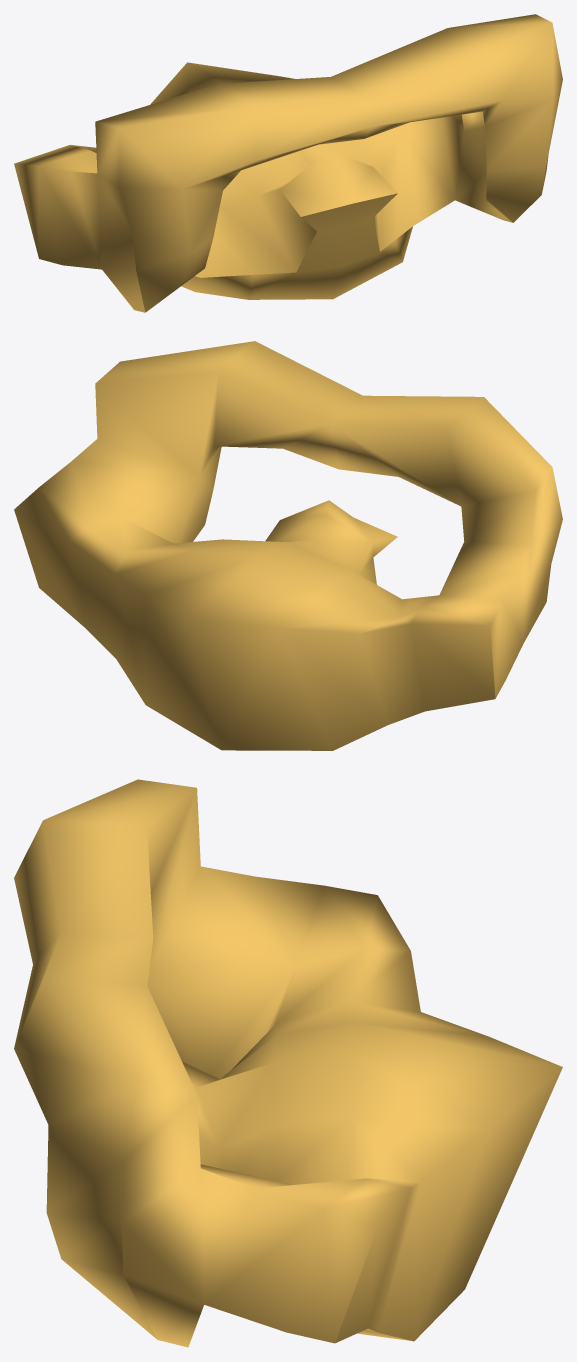
The model's file is Beard_Yellow_7.fbx.
The picture shows the model from 3 angles, top to bottom: view 1: azimuth 30°, elevation 25°; view 2: azimuth 150°, elevation 25°; view 3: azimuth 270°, elevation 25°; orthographic projection. The views are drawn at different scales.
Visible parts, largest first — view 1: Beard_Yellow_7; view 2: Beard_Yellow_7; view 3: Beard_Yellow_7.
Part boxes in pixels (bbox=[...]): Beard_Yellow_7: bbox=[14, 14, 562, 312]; Beard_Yellow_7: bbox=[14, 341, 562, 750]; Beard_Yellow_7: bbox=[14, 779, 562, 1347].
Bounding box in the file's own units: 25.35 × 13.89 × 17.74.
